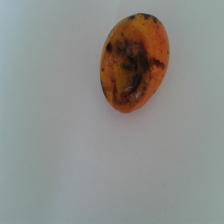Mango Rotten: (104, 6, 172, 109)
